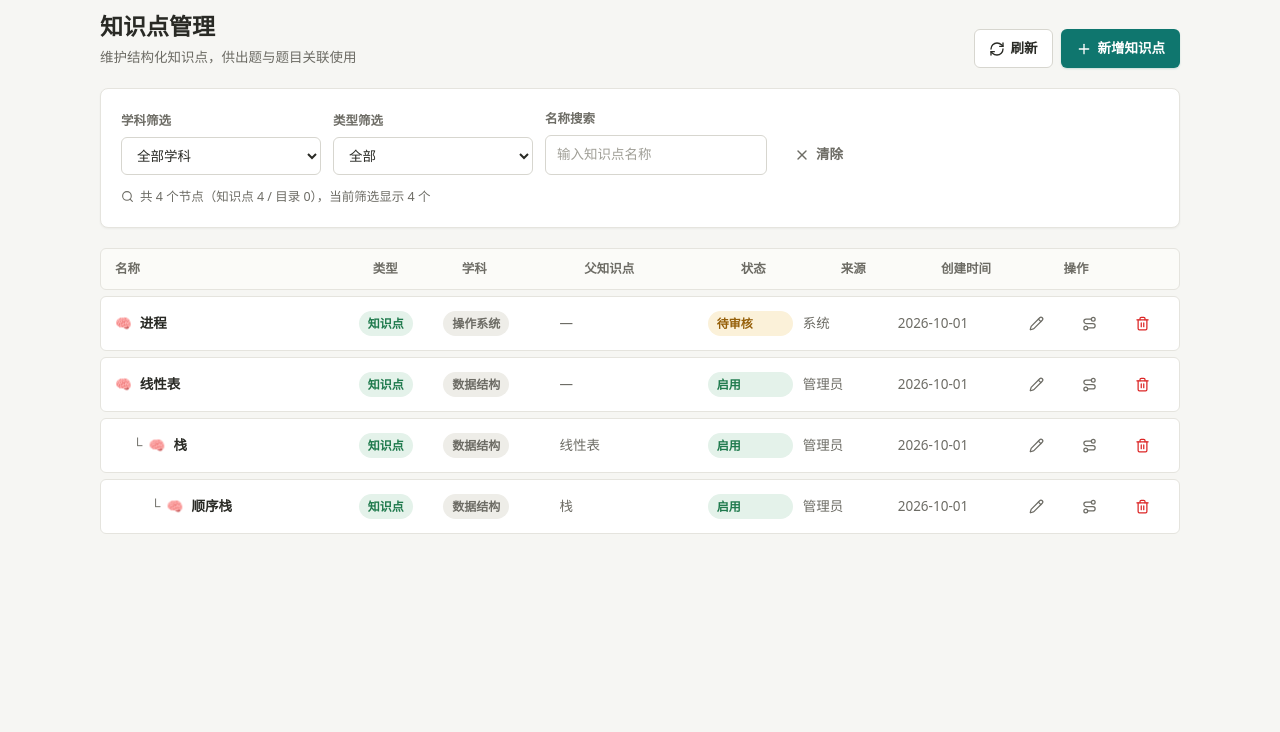
it: AdminKnowledgePointsView › 点击「前置关系」展开前置依赖面板，再次点击收起
Expected: the text "前置关系表示" is not shown
What coordinates should you click on to do the following:
click the 3rd button titled "前置关系"
I would click on:
 (1090, 445)
Its box is [1067,429,1112,462].
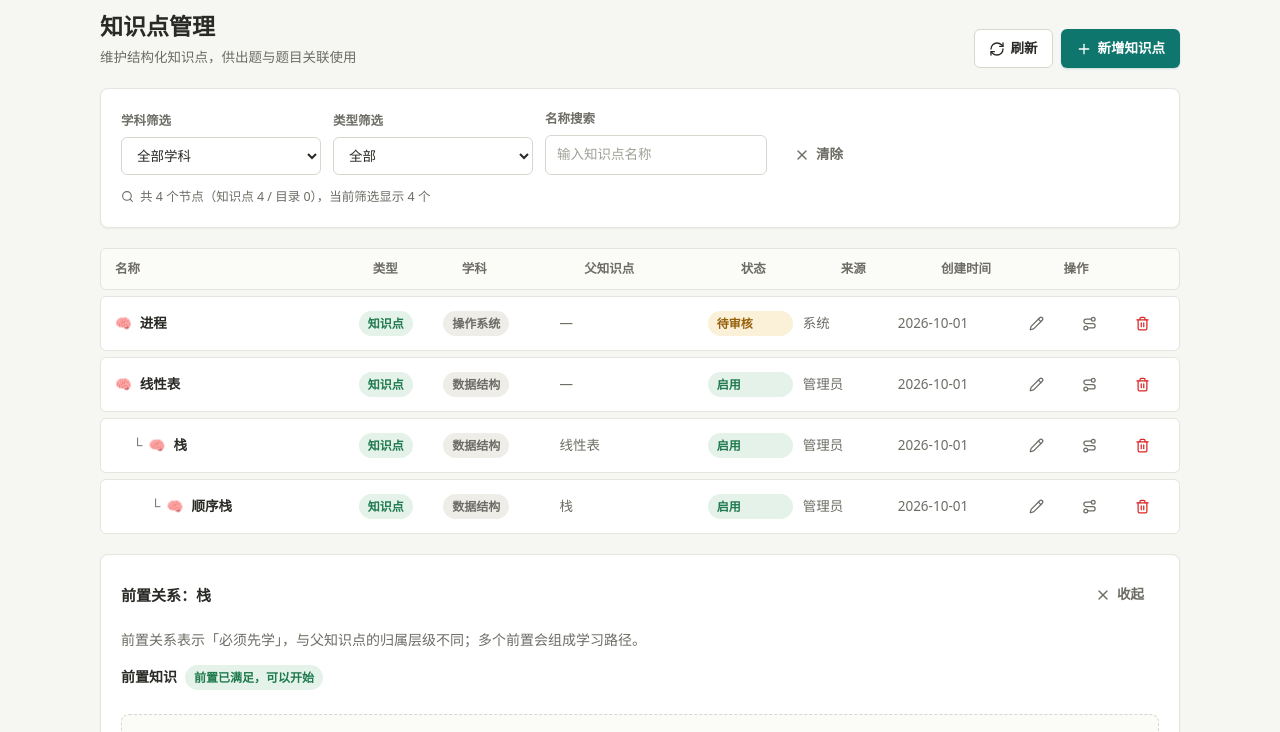
Now the text "前置关系：栈" is shown, box [121,583,211,607]
Now the text "前置关系表示" is shown, box [121,630,646,648]
What coordinates should you click on to do the following:
click the 3rd button titled "前置关系"
I would click on:
 (1090, 445)
Its box is [1067,429,1112,462].
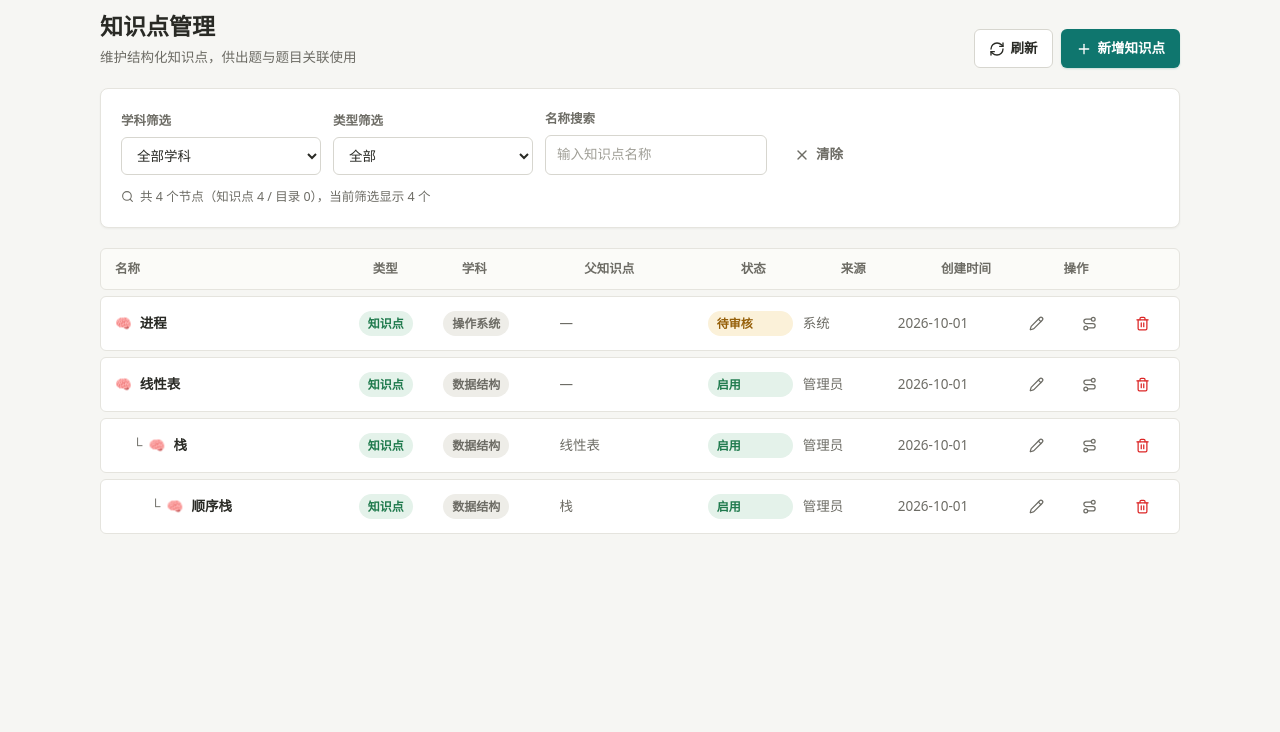
Now the text "前置关系表示" is gone
